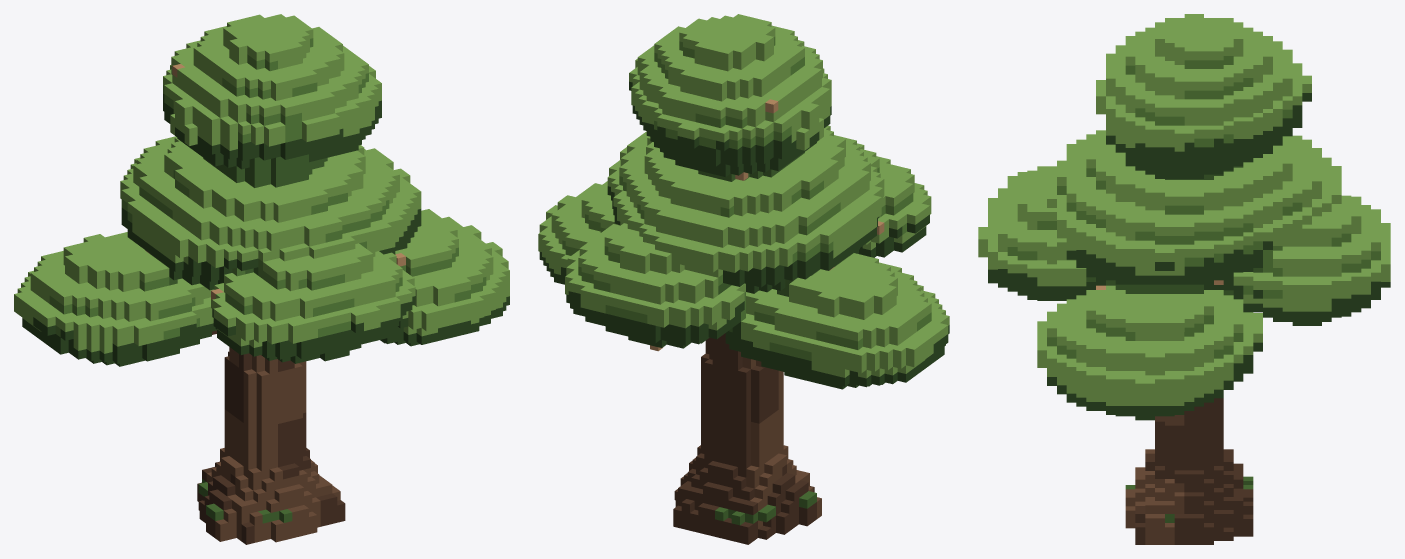
The model's file is Mountain_Oak_v4.fbx.
3 renders of one model, left to right at view 1: azimuth 30°, elevation 25°; view 2: azimuth 150°, elevation 25°; view 3: azimuth 270°, elevation 25°, orthographic. The views are drawn at different scales.
Visible parts, largest first — view 1: Mountain_Oak_v4; view 2: Mountain_Oak_v4; view 3: Mountain_Oak_v4.
Boxes of the visible parts, x1,y1,x2,y2 form: Mountain_Oak_v4: (14, 14, 509, 544); Mountain_Oak_v4: (538, 14, 949, 544); Mountain_Oak_v4: (978, 14, 1390, 544).
Size of the model in its own units: 3.4 by 3.67 by 2.8.
Materials: 1 (1 with a texture image).
